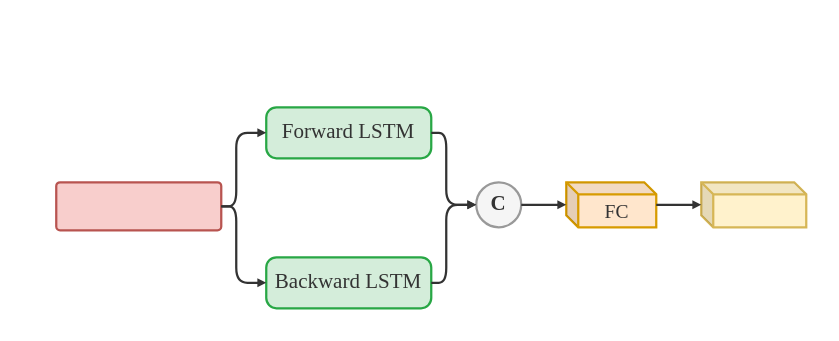
This 839x341 diagram has some shape labels left out. The shapes that lost their labels are listed below. From the top down, each one's box as (x1, y1, x2, y2) in pixels, then its label:
(54, 180, 222, 231): Sequence Input
(699, 180, 807, 228): Output
